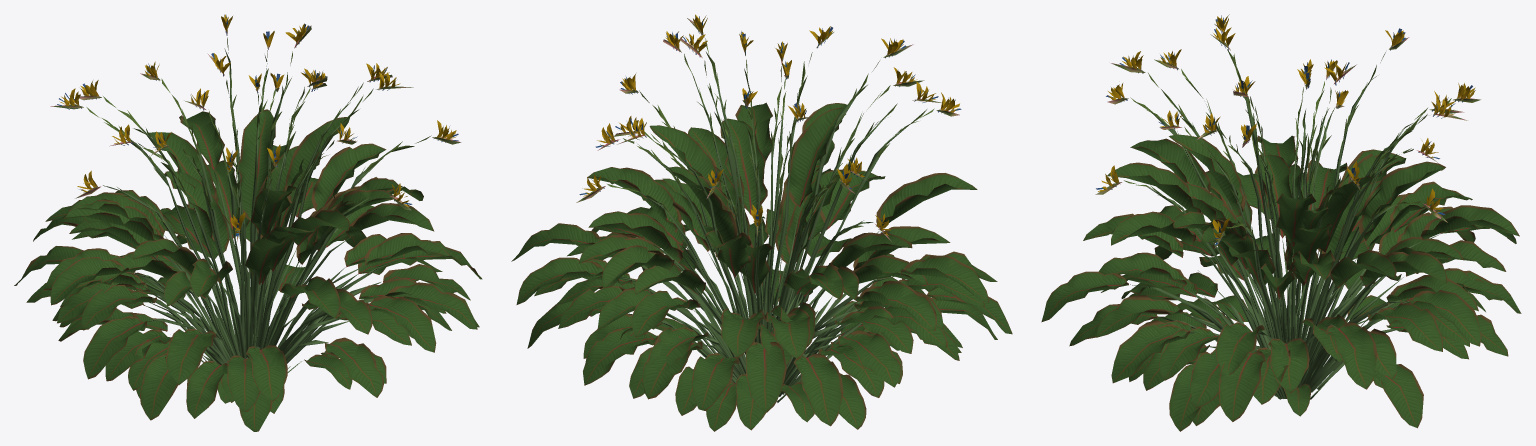
File: strelitzia_lod1.gltf
3 views of the same model, side by side, from view 1: azimuth 30°, elevation 25°; view 2: azimuth 150°, elevation 25°; view 3: azimuth 270°, elevation 25° (orthographic). The views are drawn at different scales.
Parts seen in each view (by area): view 1: Strelitzia_r__A001; view 2: Strelitzia_r__A001; view 3: Strelitzia_r__A001.
Part boxes in pixels (bbox=[...]): Strelitzia_r__A001: bbox=[14, 14, 482, 431]; Strelitzia_r__A001: bbox=[511, 14, 1012, 431]; Strelitzia_r__A001: bbox=[1041, 14, 1521, 431].
Size of the model in its own units: 2.32 by 1.8 by 2.23.
Materials: 6 (6 with a texture image).
